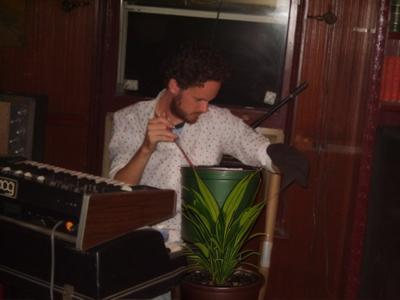person: (110, 44, 312, 300)
pottedplant: (181, 165, 265, 300)
